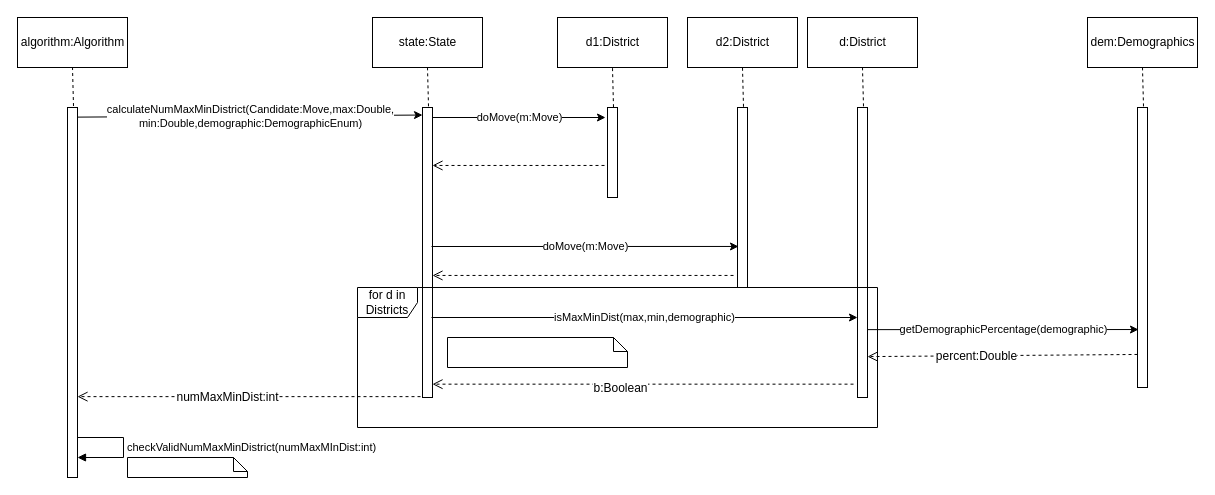
This 1215x495 diagram has some shape labels left out. The shapes that lost their labels are listed below. From the top down, each one's centre as x and y in pixels, then its label:
At point (537, 352): "if b == true, numMaxMinDist += 1".
At point (187, 467): "returns a boolean".
